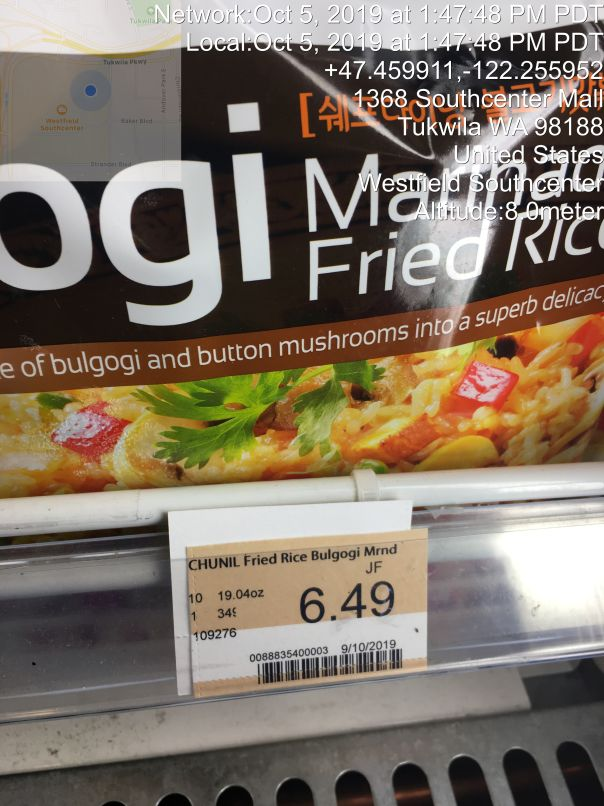Chune Fried rice: (5, 54, 604, 479)
Label: (155, 503, 437, 702)
Location: (343, 76, 604, 194)
Time: (147, 1, 604, 57)
